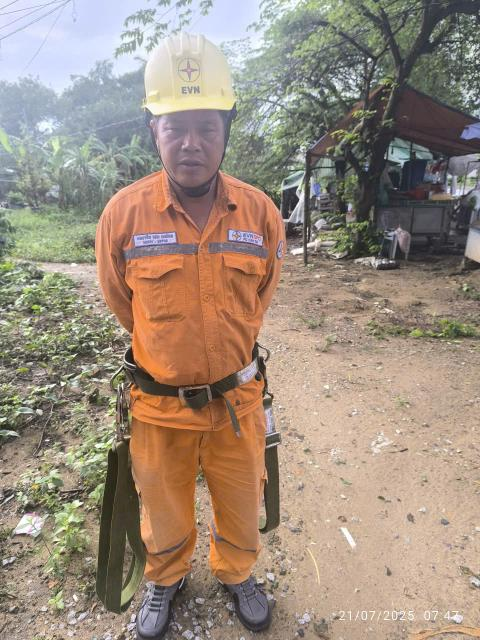harness: (85, 339, 292, 421)
helmet: (118, 26, 257, 118)
shoes: (104, 558, 191, 639), (209, 557, 284, 631)
